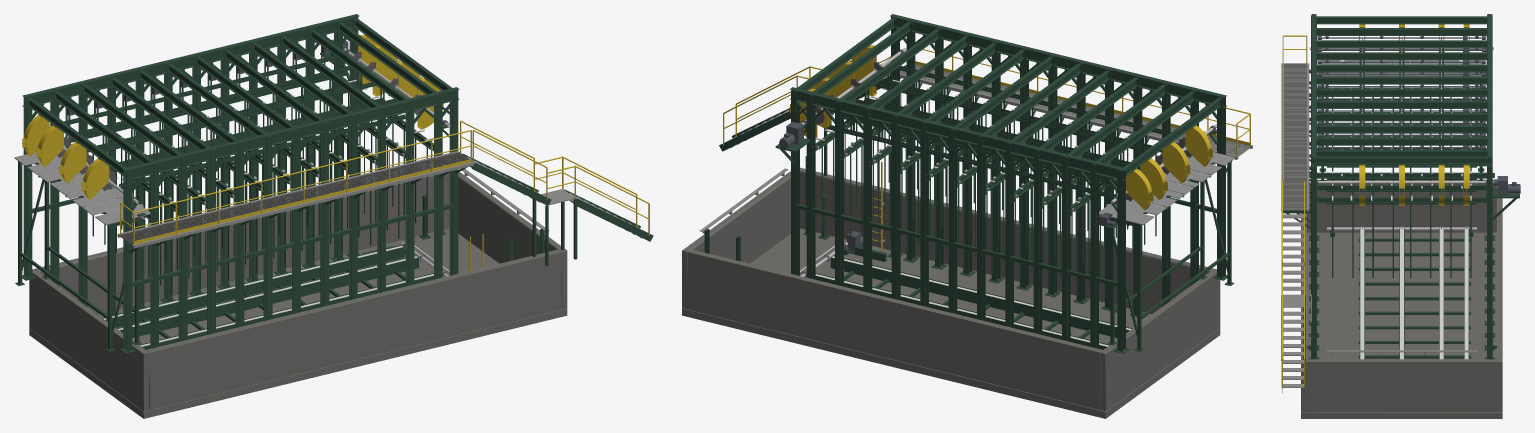
The model's file is sorter_frame.glb.
3 views of the same model, side by side, from view 1: azimuth 30°, elevation 25°; view 2: azimuth 150°, elevation 25°; view 3: azimuth 270°, elevation 25° (orthographic). The views are drawn at different scales.
Visible parts, largest first — view 1: Frame, Pit, ChainSupports, EndTable, CatwalkGrating, BayFronts, CatwalkRails, ChainGuards, InfeedStand, CatwalkBrackets, DeckFixed, HaulWearStrips (+2 smaller); view 2: Frame, Pit, ChainSupports, BayFronts, EndTable, ChainGuards, InfeedStand, DeckFixed, CatwalkGrating, CatwalkRails, PitSteel, CatwalkBrackets (+4 smaller); view 3: Pit, Frame, CatwalkGrating, EndTable, Hoists, BayFronts, HaulWearStrips, DeckFixed, ChainGuards, CatwalkRails, PitSteel, ChainSupports (+8 smaller).
Part boxes in pixels (box(x1,y1,x2,y2)): Frame: box(22, 14, 459, 353); Pit: box(29, 171, 567, 418); ChainSupports: box(64, 45, 407, 188); EndTable: box(103, 245, 433, 349); CatwalkGrating: box(117, 151, 642, 248); BayFronts: box(92, 93, 430, 293); CatwalkRails: box(120, 120, 649, 244); ChainGuards: box(22, 34, 443, 199); InfeedStand: box(15, 161, 145, 351); CatwalkBrackets: box(128, 153, 653, 266); DeckFixed: box(14, 80, 433, 224); HaulWearStrips: box(103, 245, 449, 346); Frame: box(790, 14, 1227, 353); Pit: box(682, 167, 1220, 418); ChainSupports: box(827, 56, 1170, 198); BayFronts: box(818, 93, 1156, 293); EndTable: box(815, 246, 1132, 349); ChainGuards: box(789, 45, 1212, 210); InfeedStand: box(1099, 161, 1234, 351); DeckFixed: box(816, 80, 1235, 225); CatwalkGrating: box(730, 64, 1252, 159); CatwalkRails: box(723, 33, 1250, 155); PitSteel: box(691, 168, 1211, 350); CatwalkBrackets: box(719, 65, 1232, 175); Pit: box(1301, 179, 1502, 418); Frame: box(1309, 14, 1494, 359); CatwalkGrating: box(1281, 63, 1309, 387); EndTable: box(1358, 228, 1470, 359); Hoists: box(1317, 36, 1486, 149); BayFronts: box(1327, 97, 1476, 277); HaulWearStrips: box(1360, 228, 1468, 359); DeckFixed: box(1321, 60, 1482, 200); ChainGuards: box(1359, 24, 1469, 205); CatwalkRails: box(1281, 35, 1307, 387); PitSteel: box(1306, 182, 1497, 358); ChainSupports: box(1359, 36, 1469, 149).
Size of the model in its own units: 18.58 by 8.33 by 8.32.
